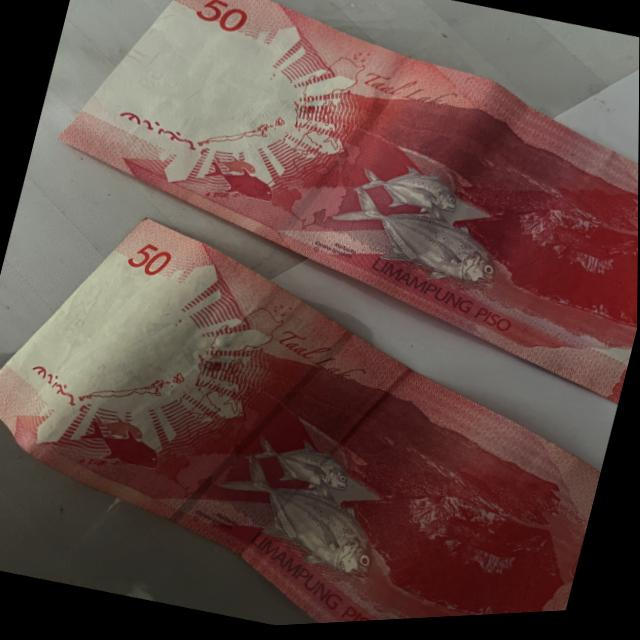50_maliputo: (190, 405, 421, 610), (321, 136, 531, 313)
50_maliputo_watermark: (64, 397, 177, 482), (193, 141, 292, 218)
value_watermark: (129, 63, 172, 101)
